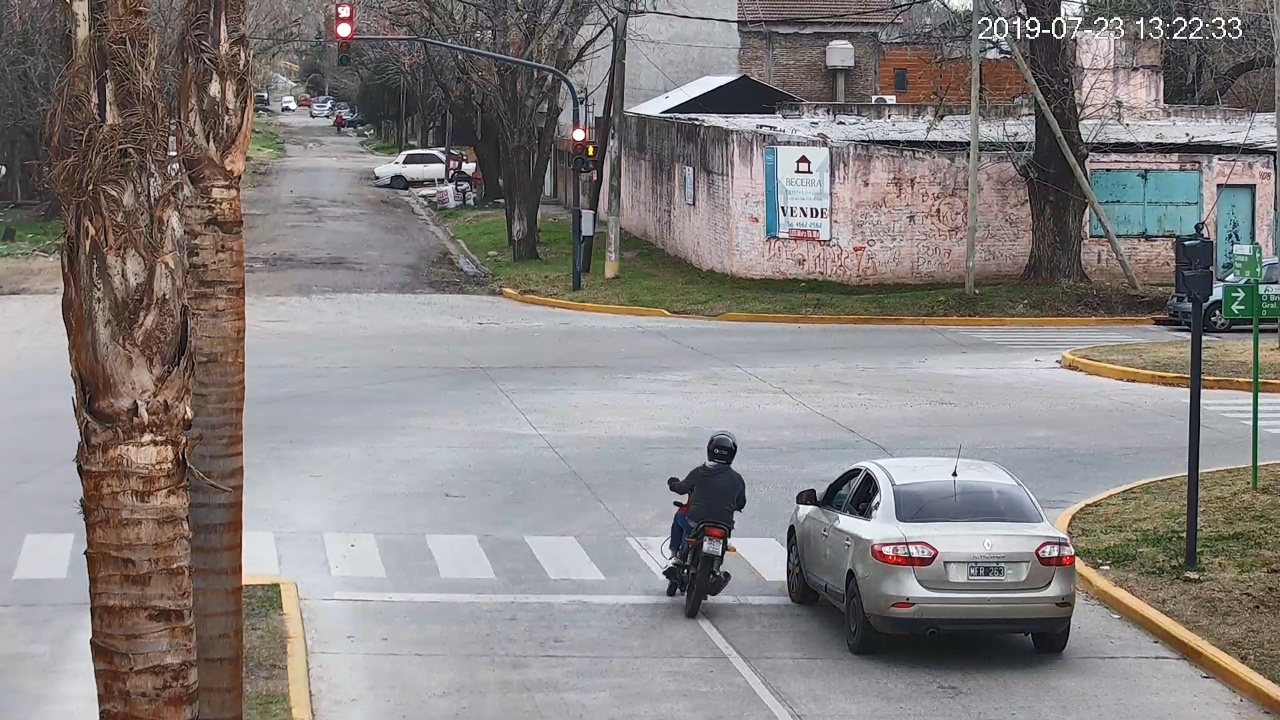car: (786, 456, 1077, 656)
motorcycle: (662, 462, 746, 618)
traffic light: (336, 20, 353, 65), (572, 127, 585, 168)
